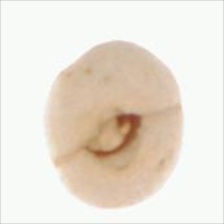L3: (80, 111, 150, 163)
L4: (47, 40, 185, 209)
